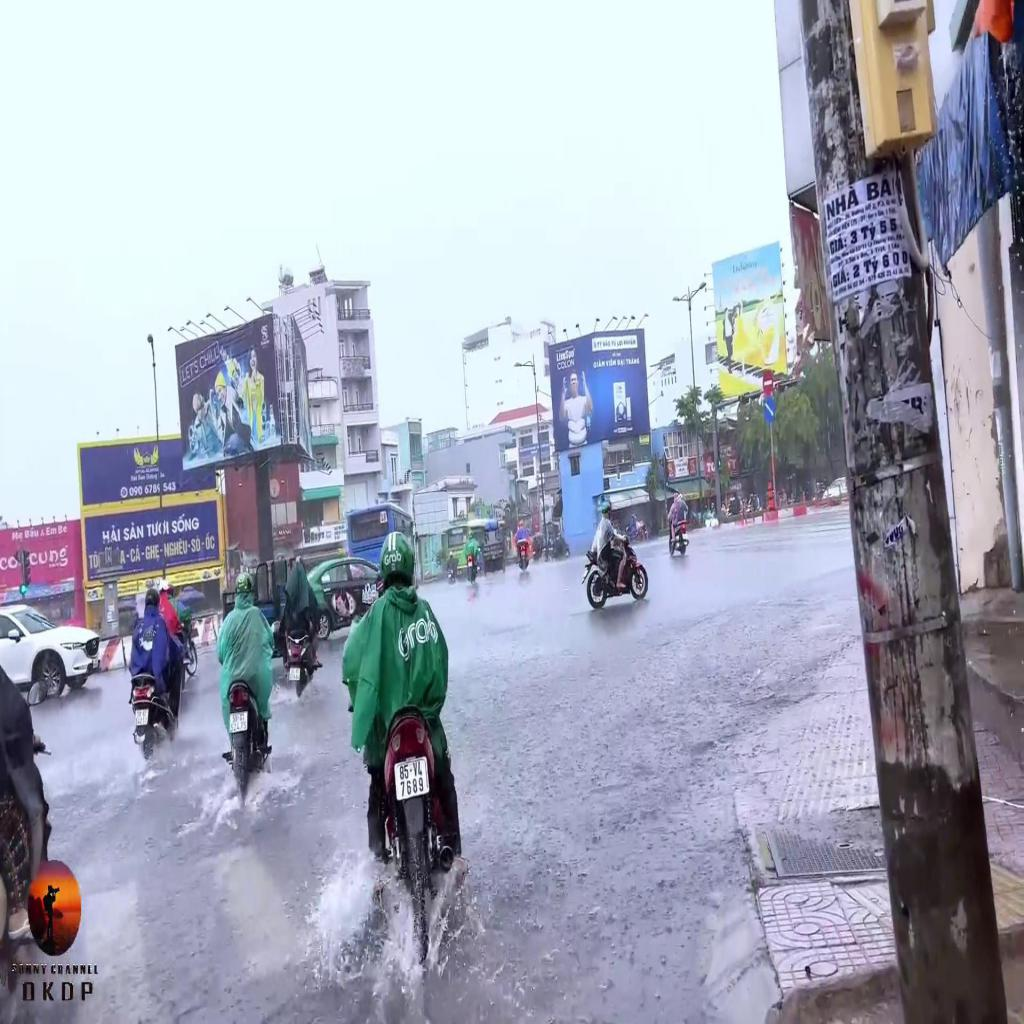cam_xe_di_nguoc_chieu: (763, 369, 774, 396)
huong_phai_di_vuot_chuong_ngai_vat_phai: (763, 397, 774, 424)
